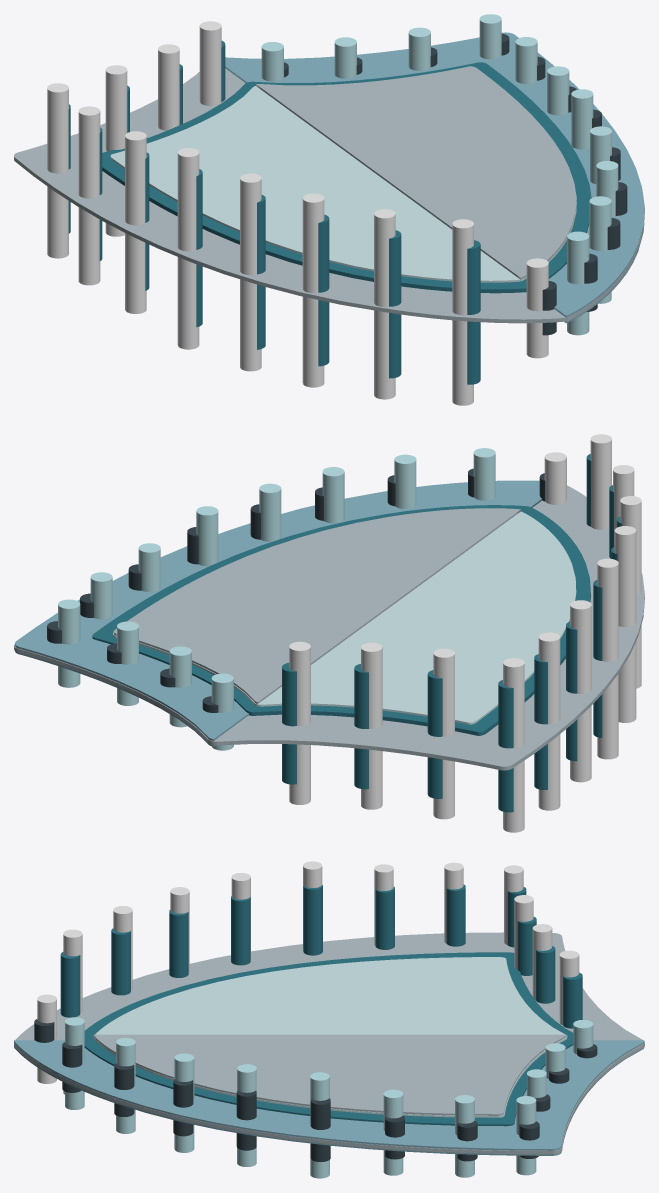
Rendered from emoji_u1f6e1.glb.
The picture shows the model from 3 angles, top to bottom: view 1: azimuth 30°, elevation 25°; view 2: azimuth 150°, elevation 25°; view 3: azimuth 270°, elevation 25°; orthographic projection. The views are drawn at different scales.
Visible parts, largest first — view 1: emoji_u1f6e1; view 2: emoji_u1f6e1; view 3: emoji_u1f6e1.
Boxes of the visible parts, <box> form: emoji_u1f6e1: <box>14,14,644,405</box>; emoji_u1f6e1: <box>14,434,644,832</box>; emoji_u1f6e1: <box>14,861,644,1178</box>.
Bounding box in the file's own units: 0.0278 × 0.0102 × 0.0339.
